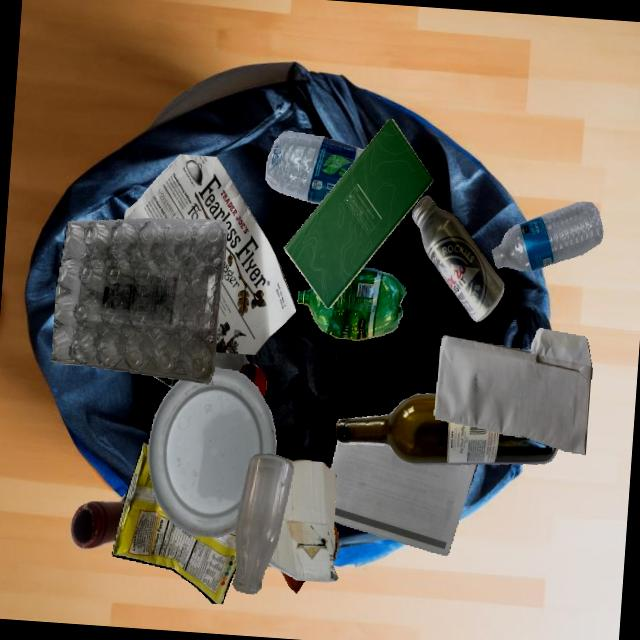biowaste: (305, 500, 336, 580)
cardboard: (268, 459, 337, 581)
glass: (335, 393, 557, 464), (232, 453, 293, 594), (69, 491, 127, 549)
metal: (410, 194, 505, 323)
paper: (123, 154, 296, 354), (284, 118, 433, 308), (433, 328, 592, 454), (330, 439, 477, 555)
plastic: (50, 218, 227, 383), (147, 367, 276, 537), (297, 267, 405, 340), (491, 201, 603, 271), (265, 130, 363, 204), (214, 352, 266, 398)
trash: (111, 443, 236, 604)
